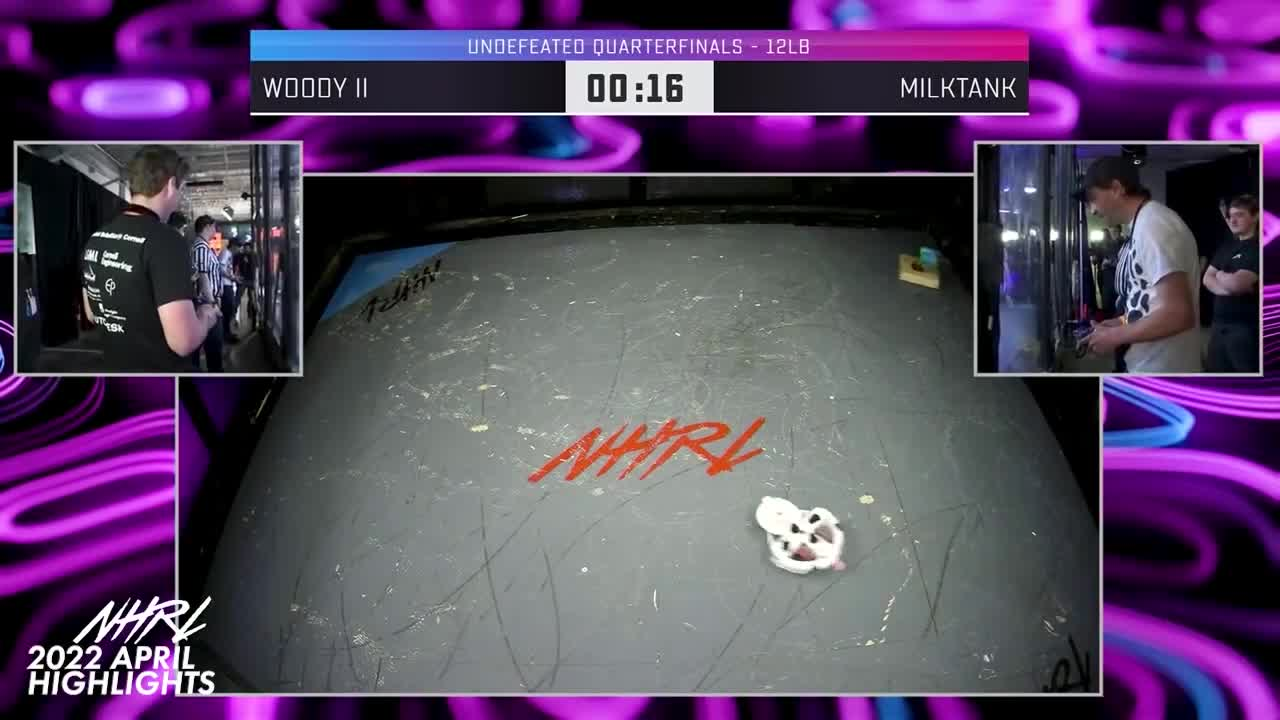combatbot: (757, 496, 847, 575), (895, 251, 947, 290)
